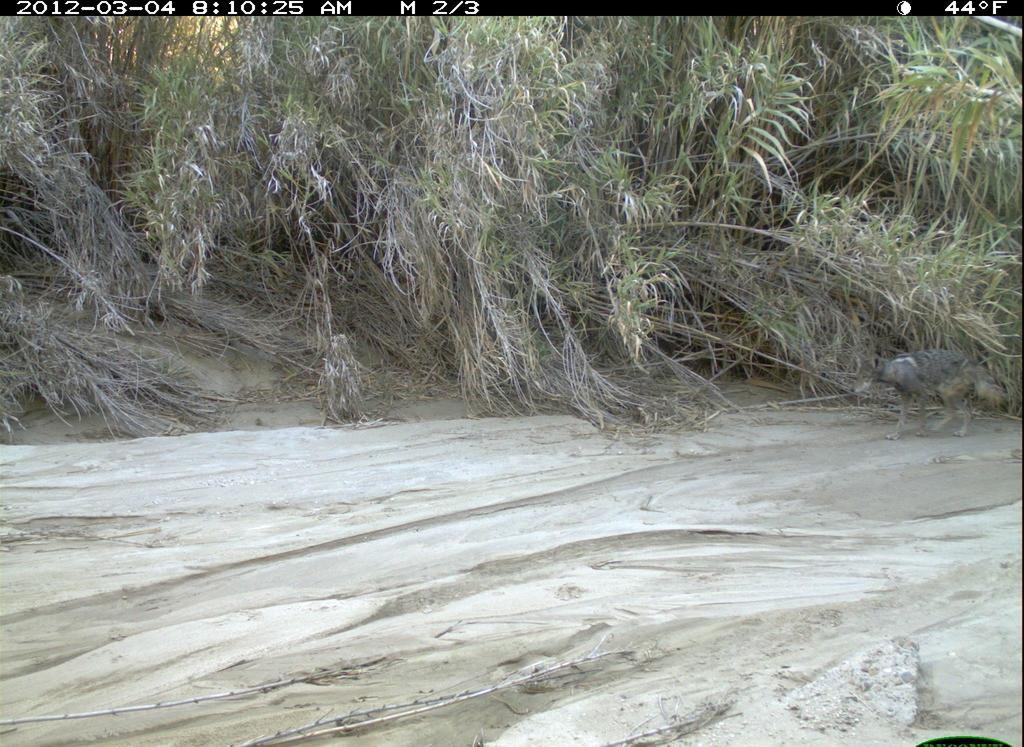coyote: (850, 328, 1017, 452)
